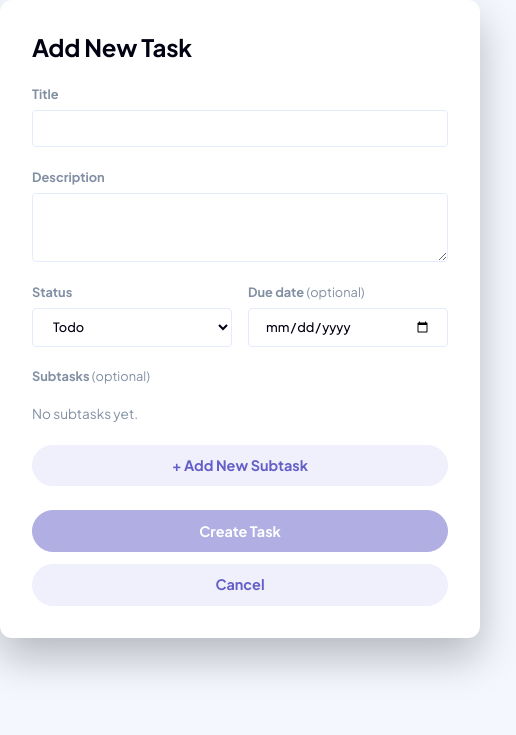
Test: TaskFormComponent › subtasks › requires a subtask title
Type "Fix the bug" into the field with id "task-title".
click(240, 129); type("Fix the bug")  # box [32, 110, 448, 147]
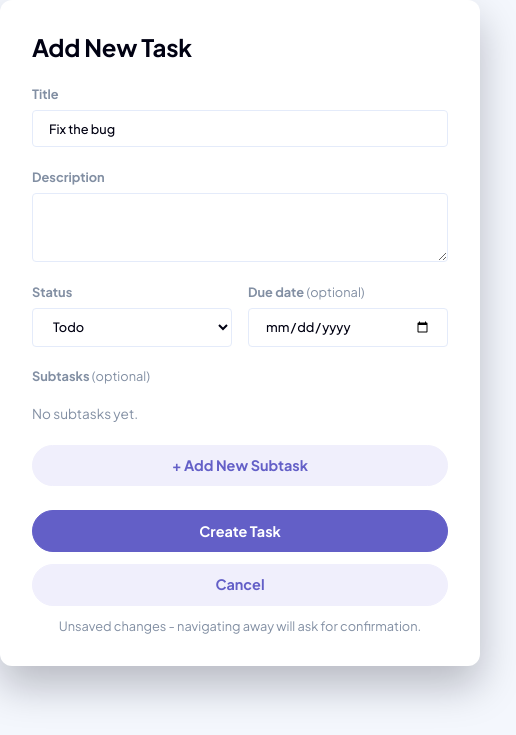
Click the button "+ Add New Subtask".
click(240, 466)  # box [32, 445, 448, 486]
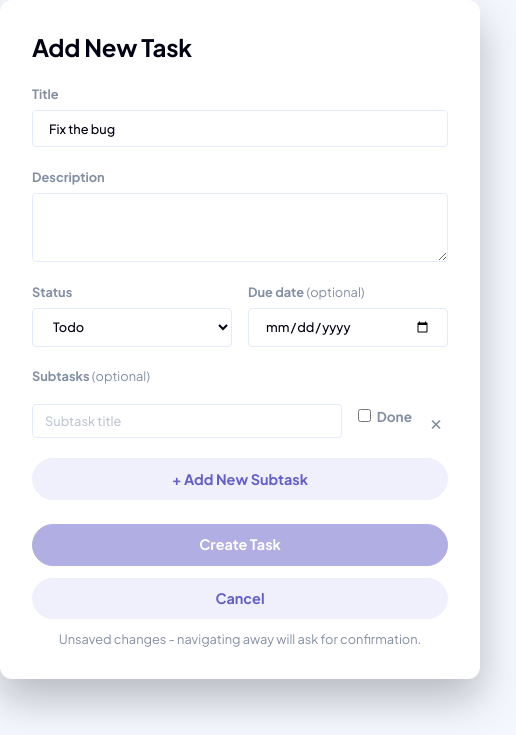
Result: the button "Create Task" is disabled at [32, 524, 448, 566]
